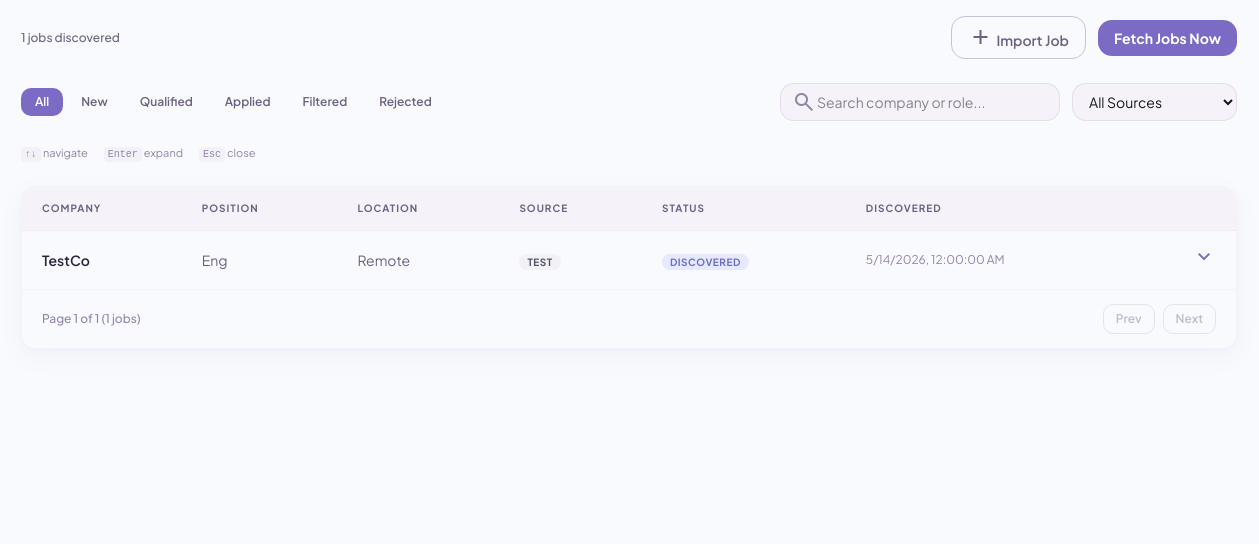
it: TailoredResumeCell mutation-error display › renders the retry error under the FAILED-branch button
This screenshot has width=1259, height=544.
Click the text "TestCo".
click(66, 260)  # box 22,230 -> 182,289
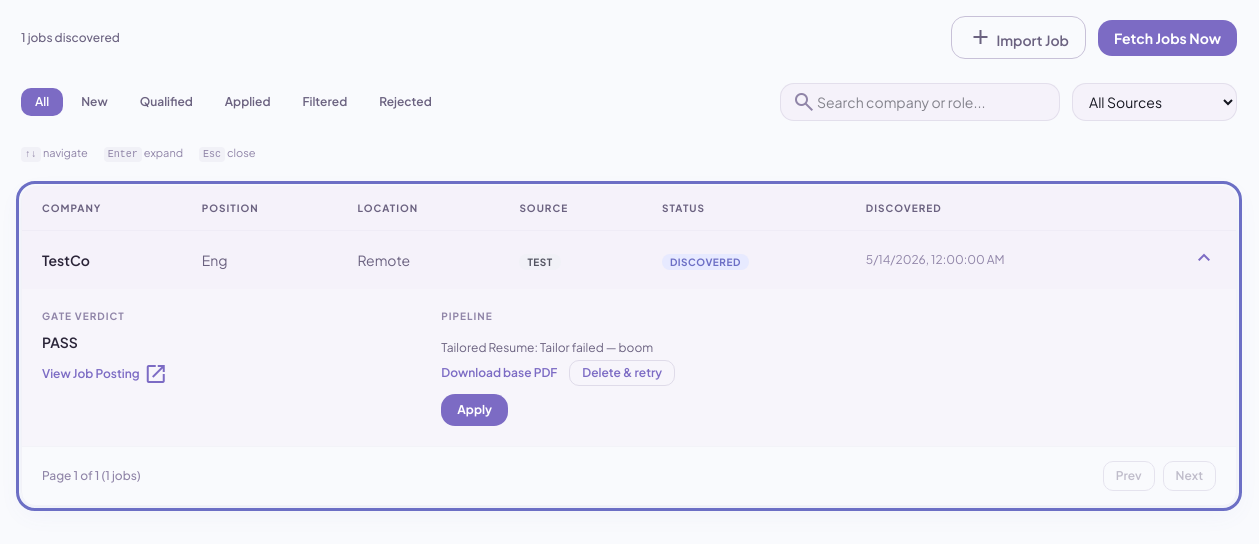
Click the button "Delete & retry".
click(622, 373)  # box 569,360 -> 675,386
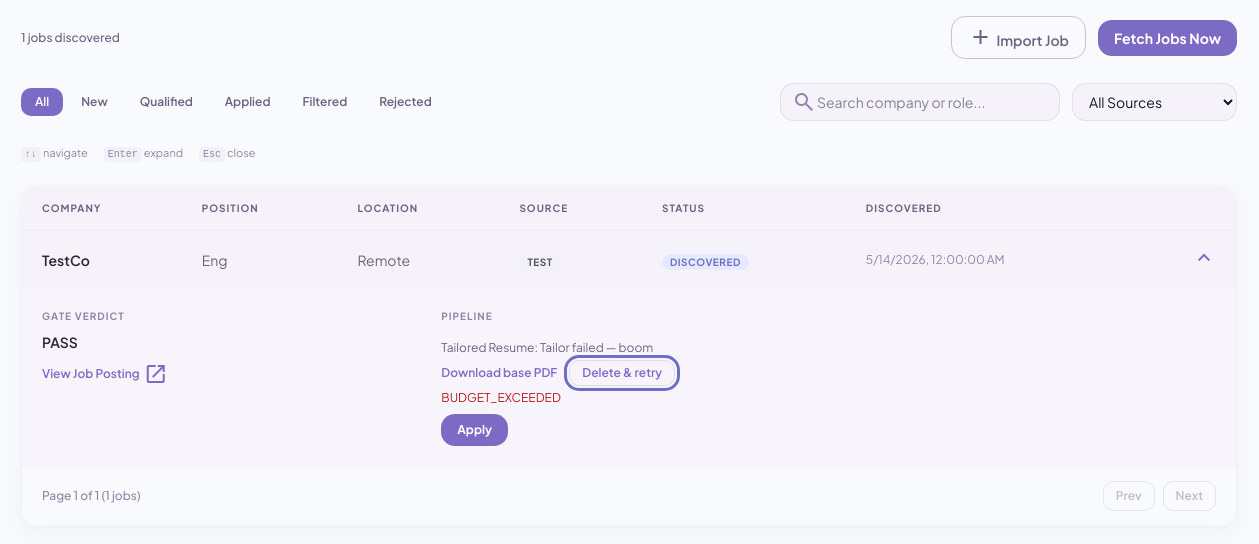
Expected: the text "BUDGET_EXCEEDED" is shown, 441,390 -> 561,405
